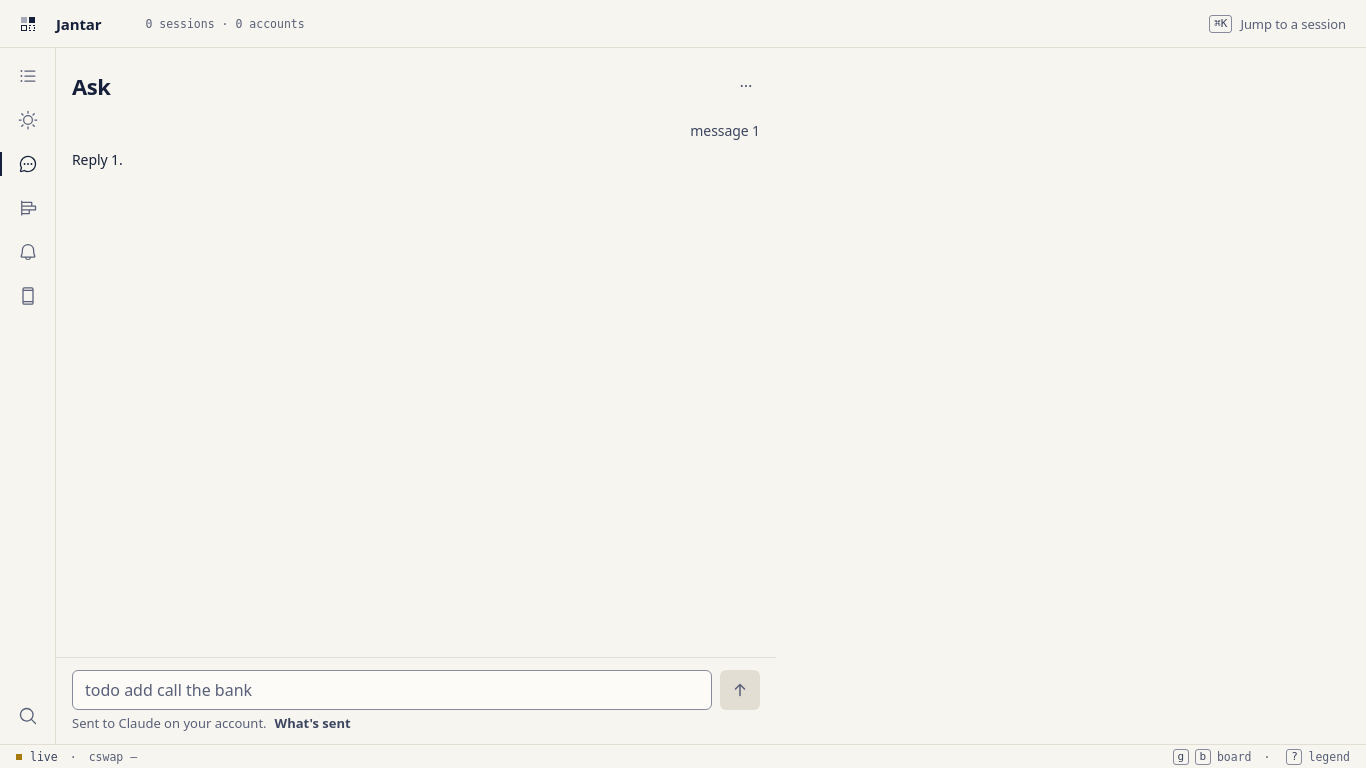
it: the page › Clear history asks first, then forgets the list
Expected: the text "Reply 1." is shown, left=72, top=150, right=123, bottom=169
Step 1. Click the button named "Ask history" → click(746, 86), box left=732, top=72, right=760, bottom=100
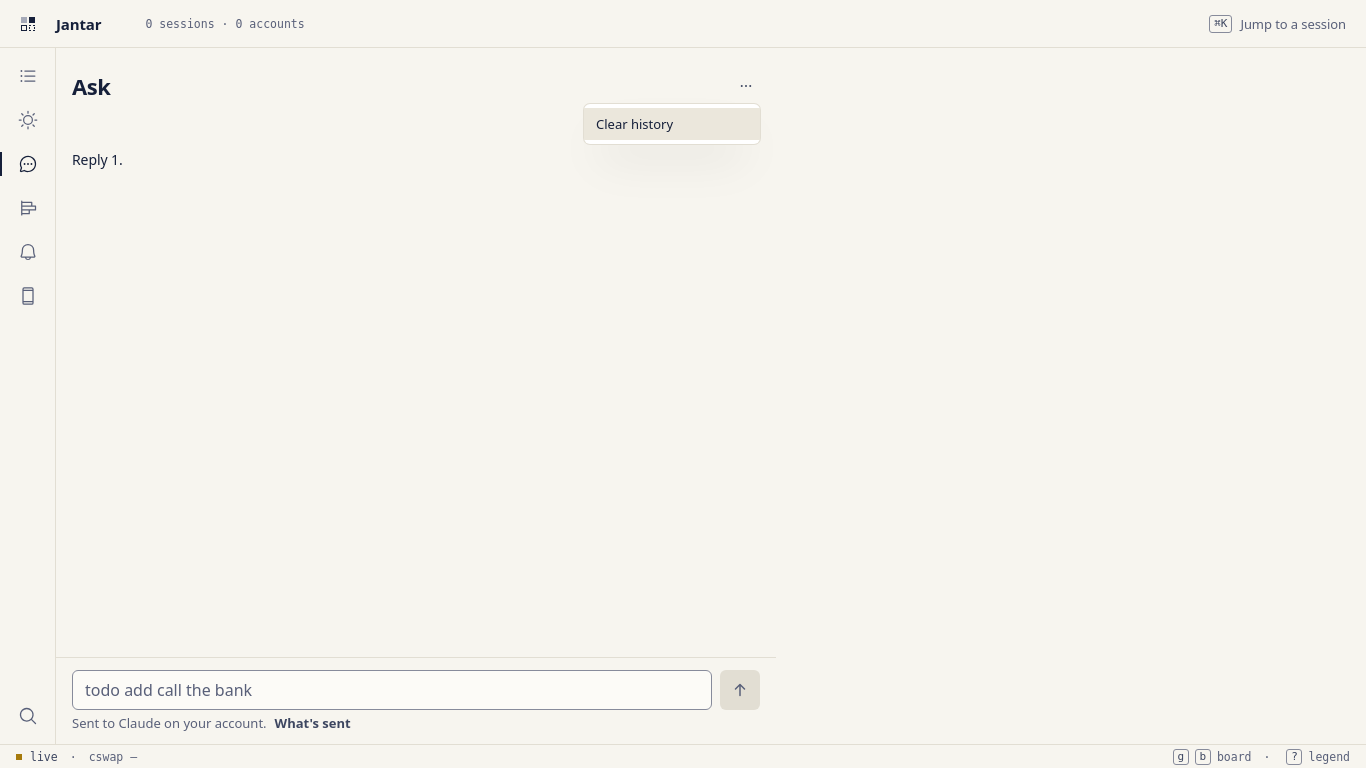
Step 2. Click the menu item "Clear history" → click(672, 124), box left=584, top=108, right=760, bottom=140
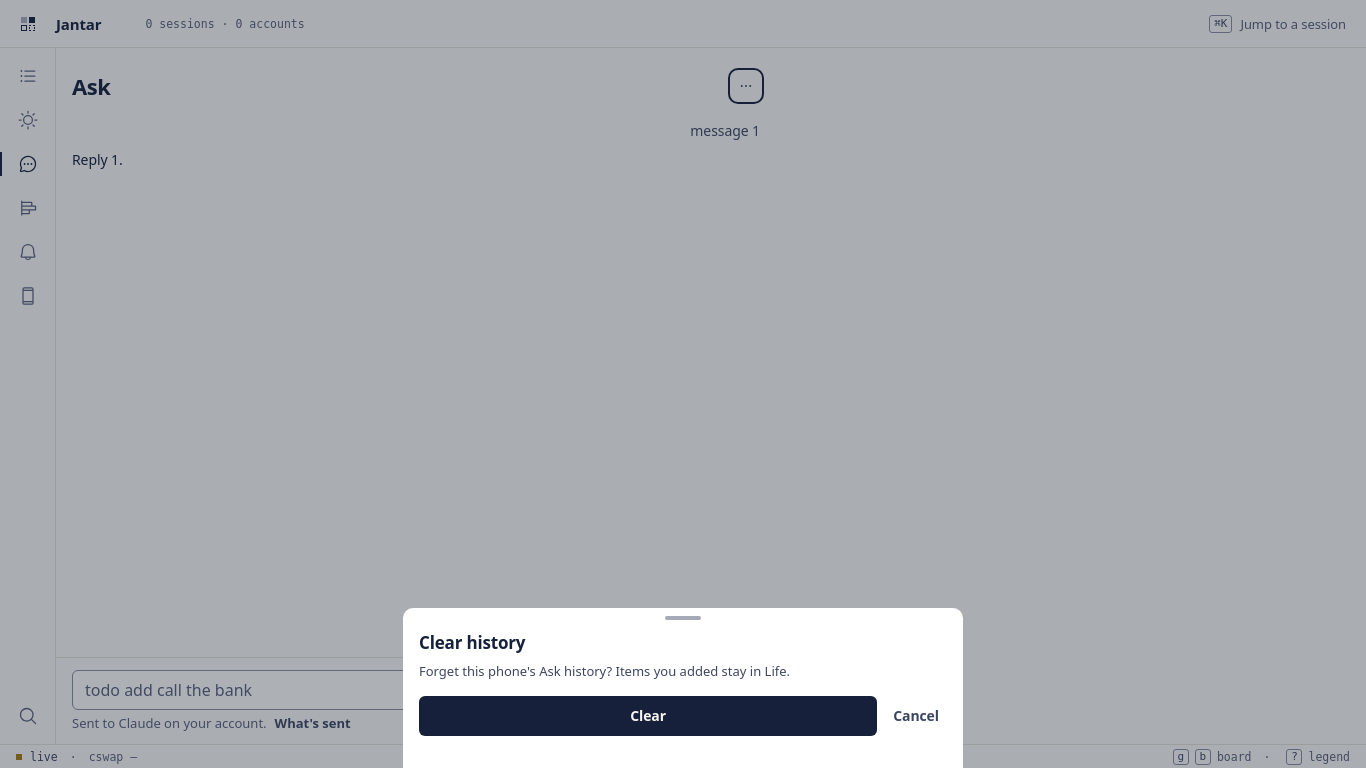
Result: the text "Forget this phone's Ask history? Items you added stay in Life." is shown at left=419, top=662, right=790, bottom=680
Step 3. Click the button "Clear" → click(648, 716), box left=419, top=696, right=877, bottom=736
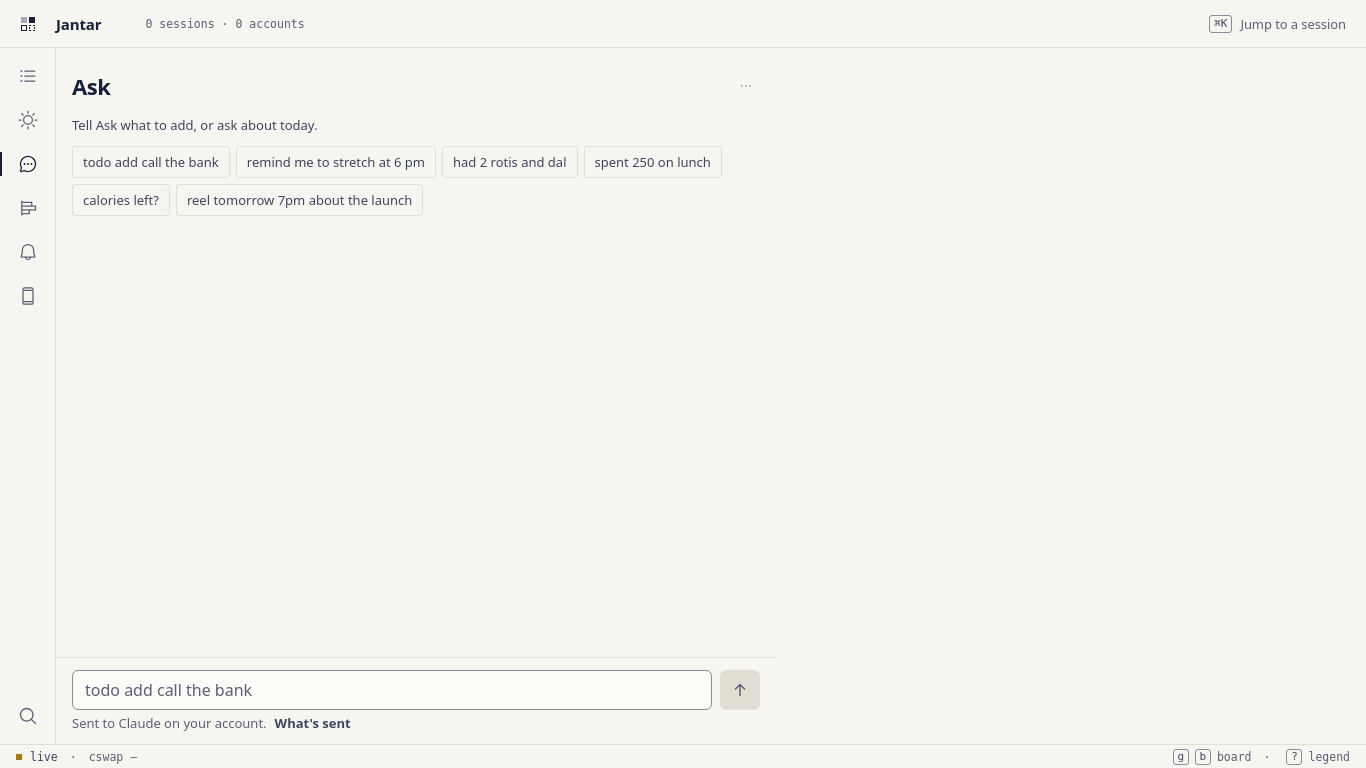
Result: the text "Tell Ask what to add, or ask about today." is shown at left=72, top=116, right=318, bottom=134
